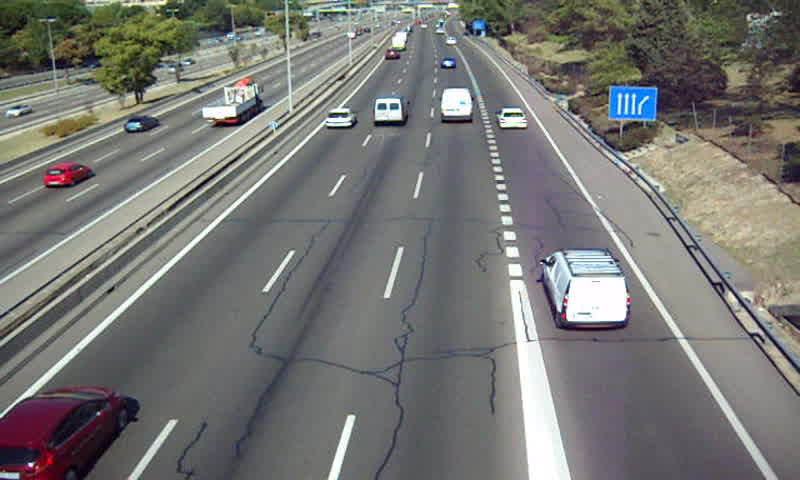car: (1, 387, 130, 480), (323, 108, 356, 132), (496, 107, 526, 129)
van: (540, 250, 632, 330), (374, 94, 411, 125), (442, 88, 474, 123)
